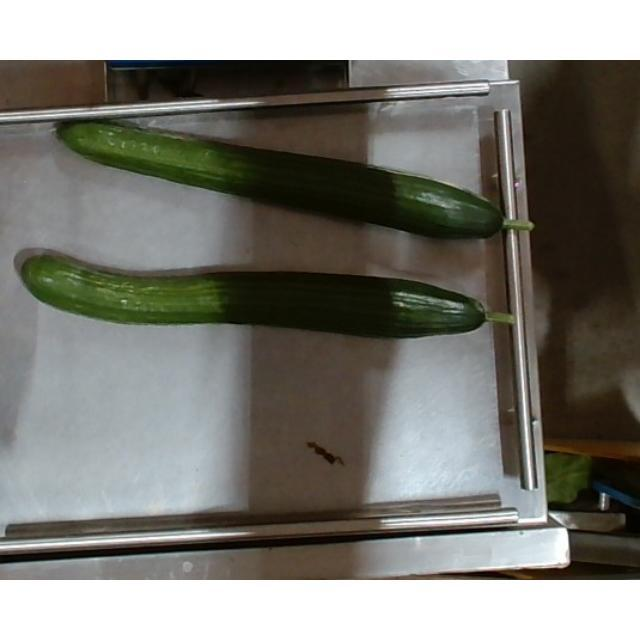cucumber: (25, 114, 551, 240), (16, 246, 516, 344)
